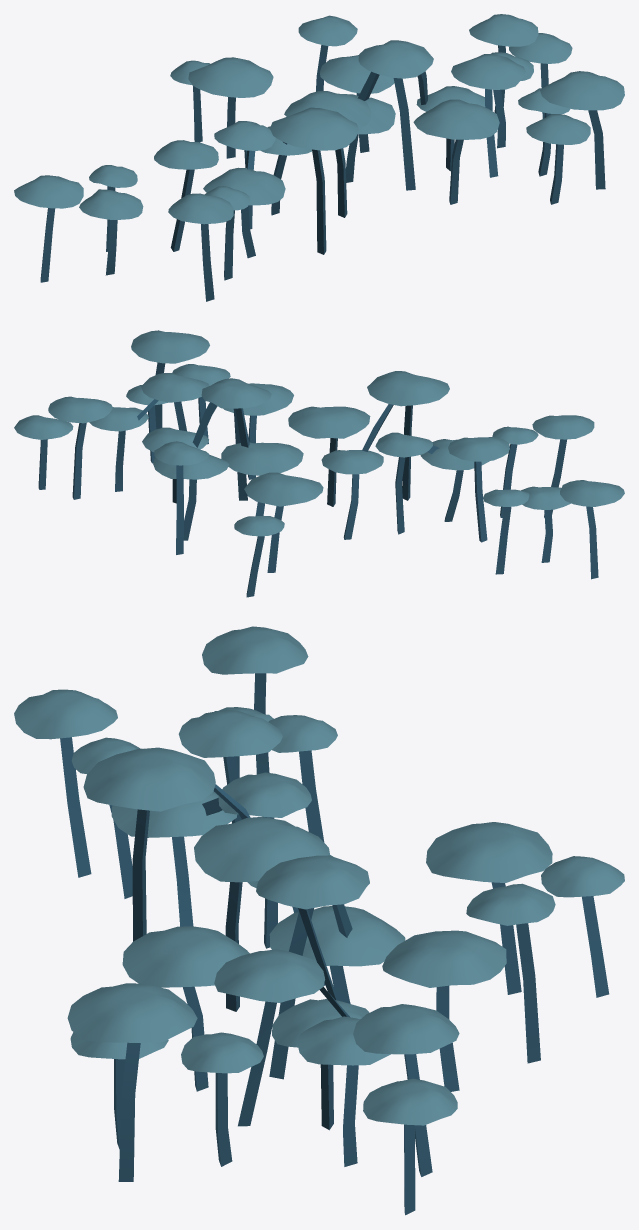
The model's file is coral_mushroom_A_dense.fbx.
3 renders of one model, top to bottom at view 1: azimuth 30°, elevation 25°; view 2: azimuth 150°, elevation 25°; view 3: azimuth 270°, elevation 25°, orthographic. The views are drawn at different scales.
Parts seen in each view (by area): view 1: coral_mushroom_A_dense_mushrooms, coral_mushroom_A_dense_twigs; view 2: coral_mushroom_A_dense_mushrooms, coral_mushroom_A_dense_twigs; view 3: coral_mushroom_A_dense_mushrooms, coral_mushroom_A_dense_twigs.
Part boxes in pixels (x1=…): coral_mushroom_A_dense_mushrooms: x1=14, y1=14, x2=624, y2=224; coral_mushroom_A_dense_twigs: x1=40, y1=45, x2=605, y2=301; coral_mushroom_A_dense_mushrooms: x1=14, y1=330, x2=624, y2=536; coral_mushroom_A_dense_twigs: x1=38, y1=362, x2=598, y2=597; coral_mushroom_A_dense_mushrooms: x1=14, y1=626, x2=624, y2=1125; coral_mushroom_A_dense_twigs: x1=60, y1=673, x2=609, y2=1215.
Size of the model in its own units: 432 by 97.32 by 245.
